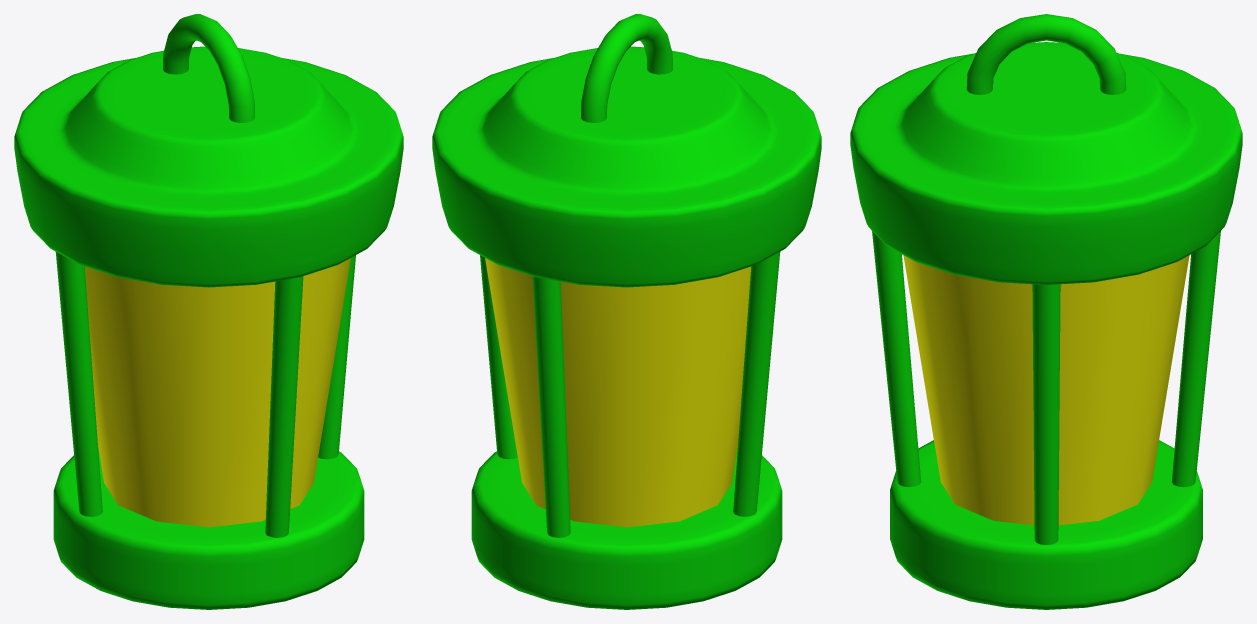
Rendered from Lantern.fbx.
3 renders of one model, left to right at view 1: azimuth 30°, elevation 25°; view 2: azimuth 150°, elevation 25°; view 3: azimuth 270°, elevation 25°, orthographic.
Visible parts, largest first — view 1: Lantern; view 2: Lantern; view 3: Lantern.
Part boxes in pixels (x1,y1,x2,y2): Lantern: (14,14,403,609); Lantern: (432,14,821,609); Lantern: (850,14,1242,609).
Bounding box in the file's own units: 0.2553 × 0.3817 × 0.2553.
